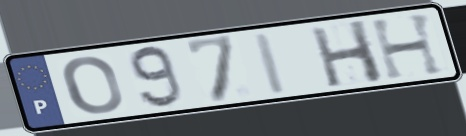7: (182, 32, 240, 105)
9: (129, 42, 187, 112)
H: (306, 17, 388, 89), (367, 10, 449, 82)
I: (250, 30, 291, 98)
O: (59, 54, 126, 117)
